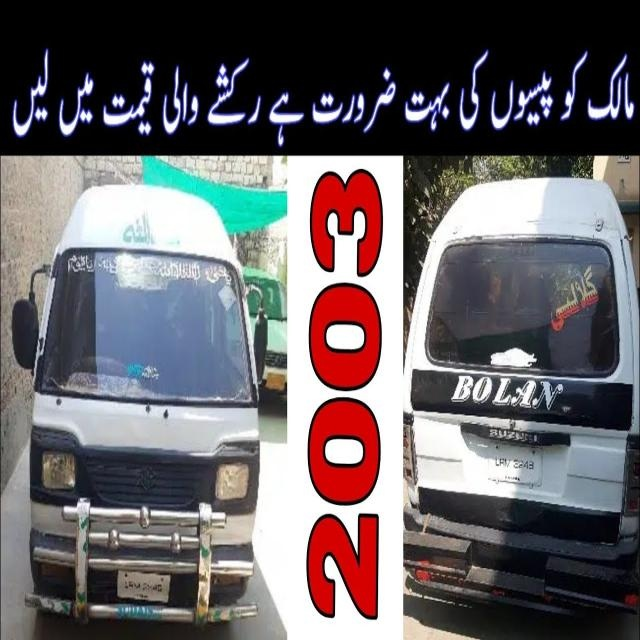Van: (12, 180, 268, 634)
